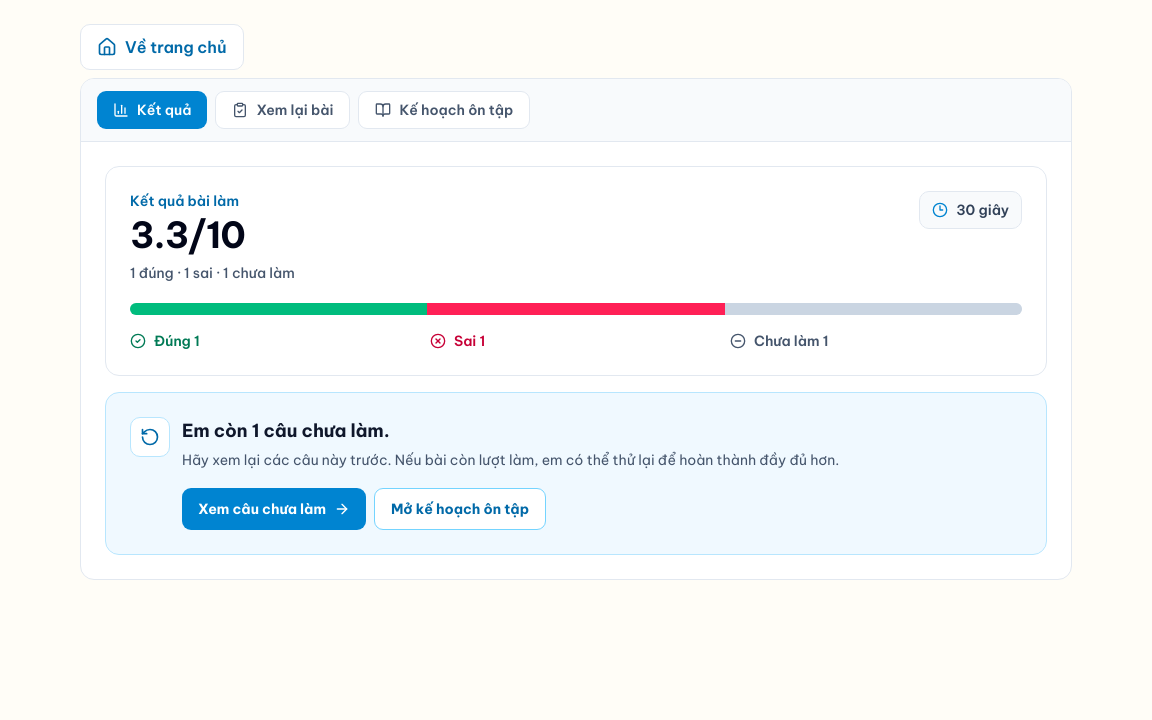
Test: student result screen › filters review items by incorrect and skipped outcomes
Click the tab "Xem lại bài": (283, 110) [215,91,350,129]
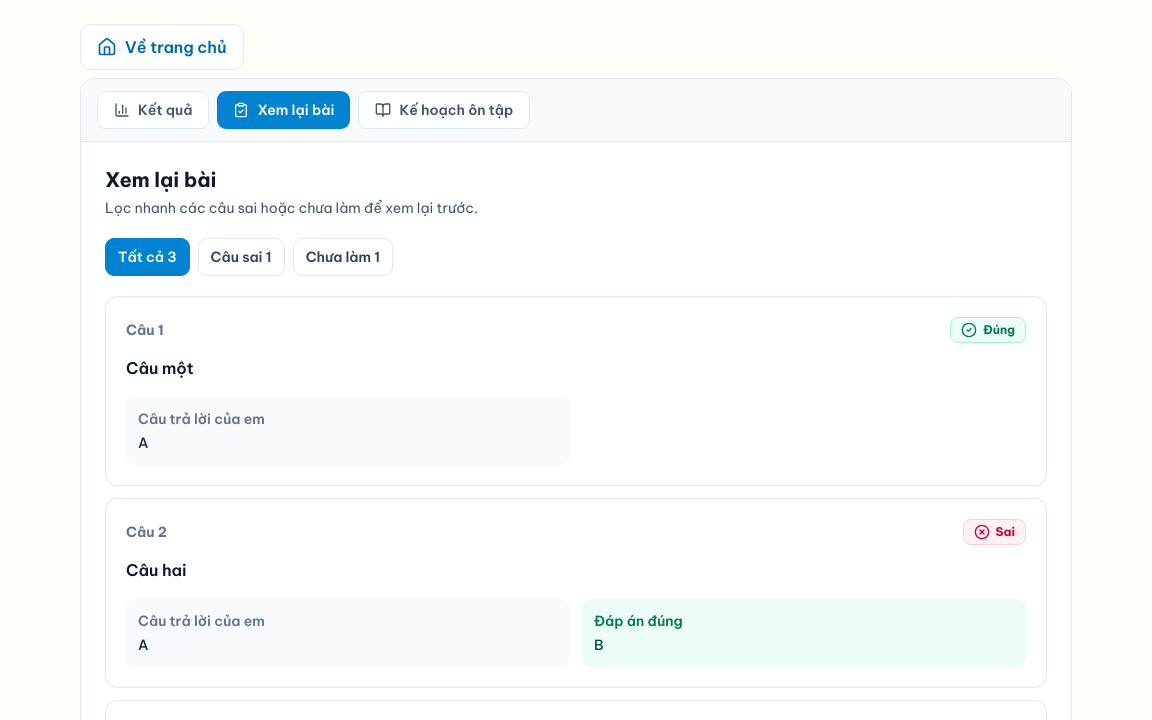
Expected: the text "Câu một" is shown, [126,358,194,378]
Expected: the text "Câu hai" is shown, [126,560,187,580]
Click the button "Câu sai 1": (241, 257) [198,238,285,276]
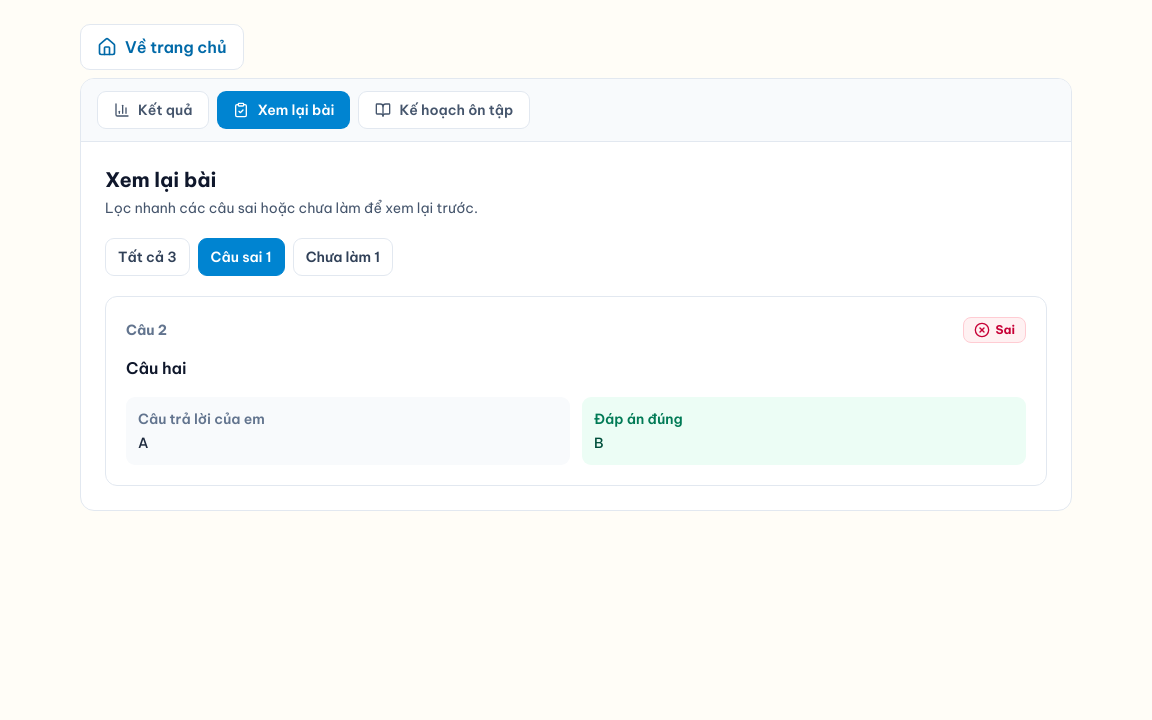
Expected: the text "Câu hai" is shown, [126,358,187,378]
Expected: the text "Câu một" is gone
Click the button "Chưa làm 1": (343, 257) [293,238,393,276]
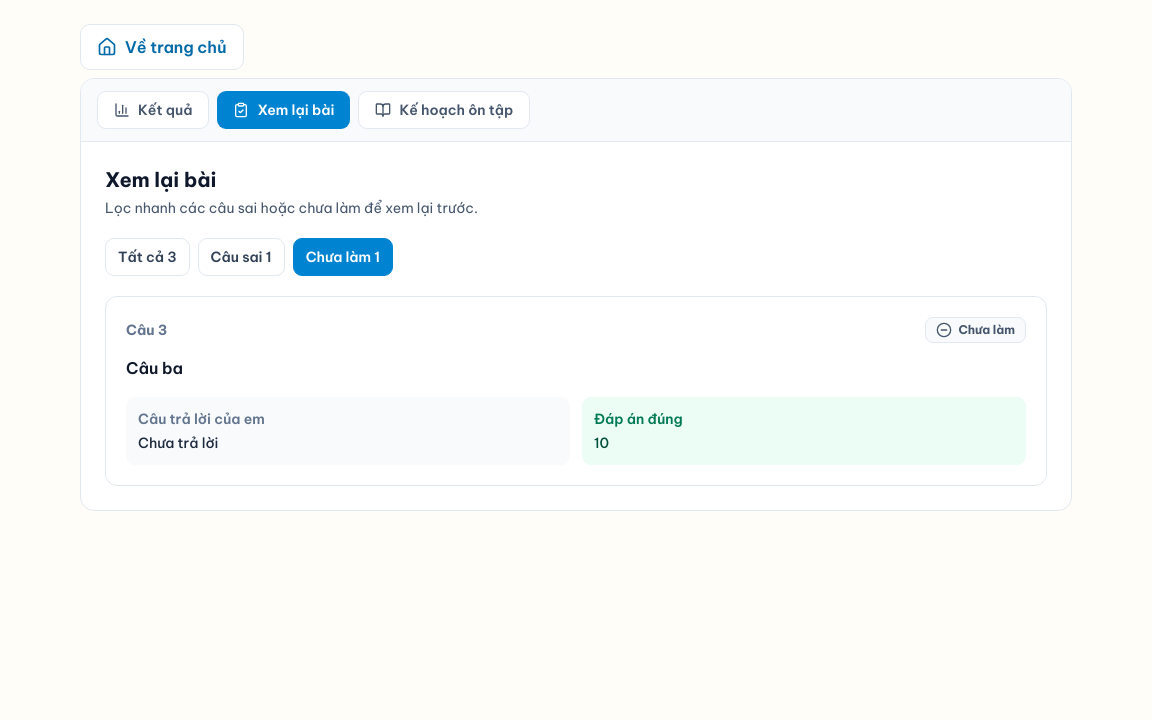
Expected: the text "Câu hai" is gone
Expected: the text "Câu ba" is shown, [126,358,183,378]
